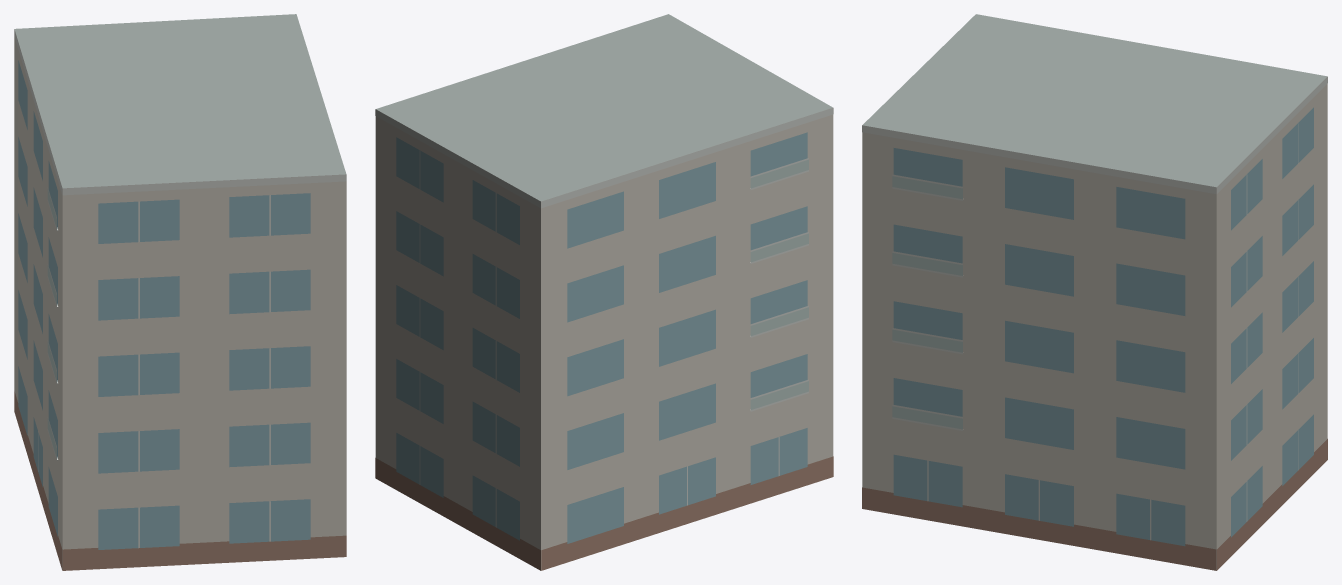
The model's file is survey-upis-32534130.glb.
3 views of the same model, side by side, from view 1: azimuth 30°, elevation 25°; view 2: azimuth 150°, elevation 25°; view 3: azimuth 270°, elevation 25° (orthographic). The views are drawn at different scales.
Parts seen in each view (by area): view 1: survey-upis-32534130.tmp; view 2: survey-upis-32534130.tmp; view 3: survey-upis-32534130.tmp.
Boxes of the visible parts, x1,y1,x2,y2 form: survey-upis-32534130.tmp: (14,14,346,570); survey-upis-32534130.tmp: (375,14,833,570); survey-upis-32534130.tmp: (862,14,1327,570).
Bounding box in the file's own units: 12.9 × 13.3 × 14.64.
